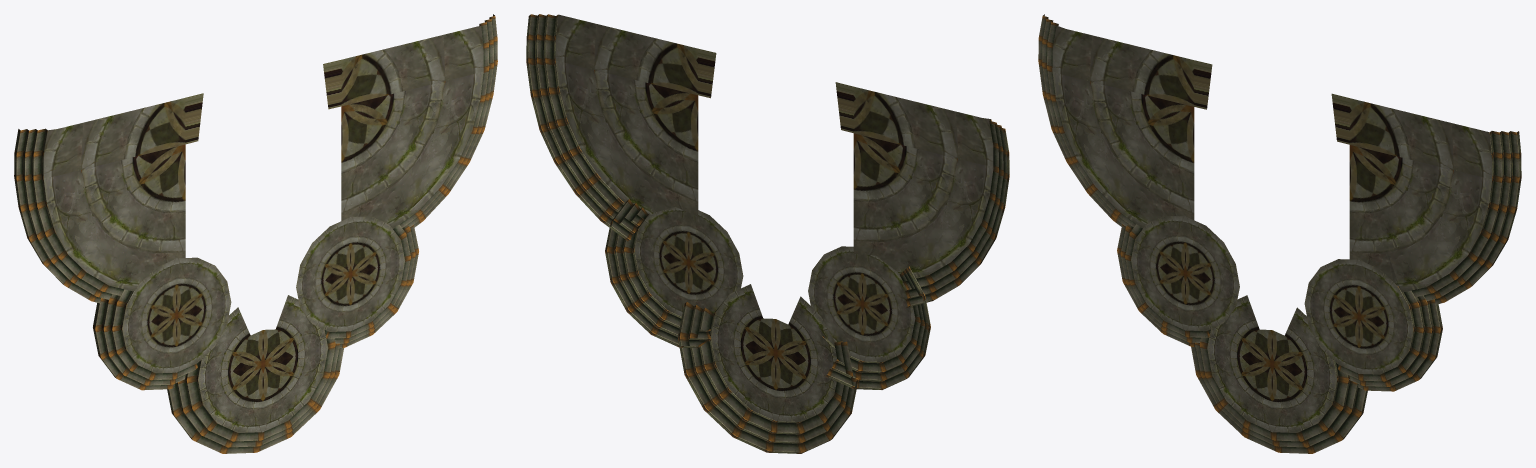
The model's file is zhucheng_yewai_291_qishipianqu_001_b.obj.
3 renders of one model, left to right at view 1: azimuth 30°, elevation 25°; view 2: azimuth 150°, elevation 25°; view 3: azimuth 330°, elevation 25°, orthographic.
Visible parts, largest first — view 1: zhucheng_yewai_291_qishipianqu_001_b; view 2: zhucheng_yewai_291_qishipianqu_001_b; view 3: zhucheng_yewai_291_qishipianqu_001_b.
Part boxes in pixels (x1,y1,x2,y2): zhucheng_yewai_291_qishipianqu_001_b: (14,14,497,453); zhucheng_yewai_291_qishipianqu_001_b: (526,14,1009,453); zhucheng_yewai_291_qishipianqu_001_b: (1038,14,1521,453).
Size of the model in its own units: 1882 by 1420 by 62.49.
Materials: 2 (2 with a texture image).
